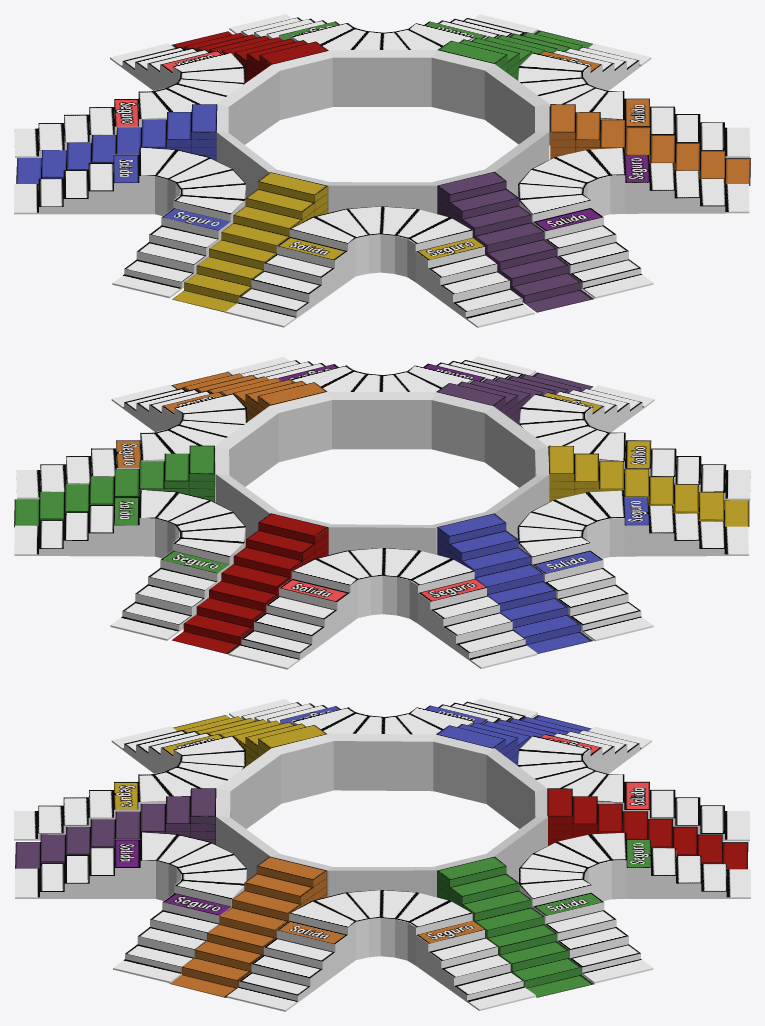
The model's file is parquesv7.glb.
3 renders of one model, top to bottom at view 1: azimuth 30°, elevation 25°; view 2: azimuth 150°, elevation 25°; view 3: azimuth 270°, elevation 25°, orthographic.
Visible parts, largest first — view 1: Vert.005; view 2: Vert.005; view 3: Vert.005.
Part boxes in pixels (bbox=[...]): Vert.005: bbox=[14, 14, 750, 327]; Vert.005: bbox=[14, 356, 750, 669]; Vert.005: bbox=[14, 698, 750, 1011].
Size of the model in its own units: 1.74 by 0.14 by 1.74.
Materials: 13 (12 with a texture image).
